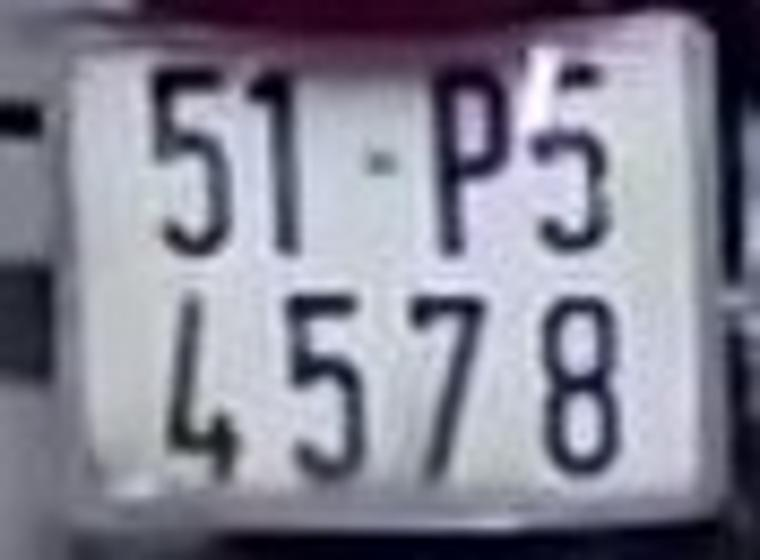-: (358, 140, 412, 191)
1: (249, 61, 317, 262)
4: (161, 291, 247, 484)
5: (139, 57, 240, 258), (523, 59, 617, 263), (277, 288, 373, 476)
7: (404, 281, 494, 479)
8: (531, 294, 629, 481)
P: (424, 58, 503, 265)
